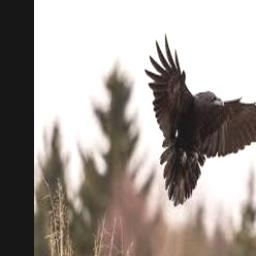Crow: (143, 33, 256, 208)
